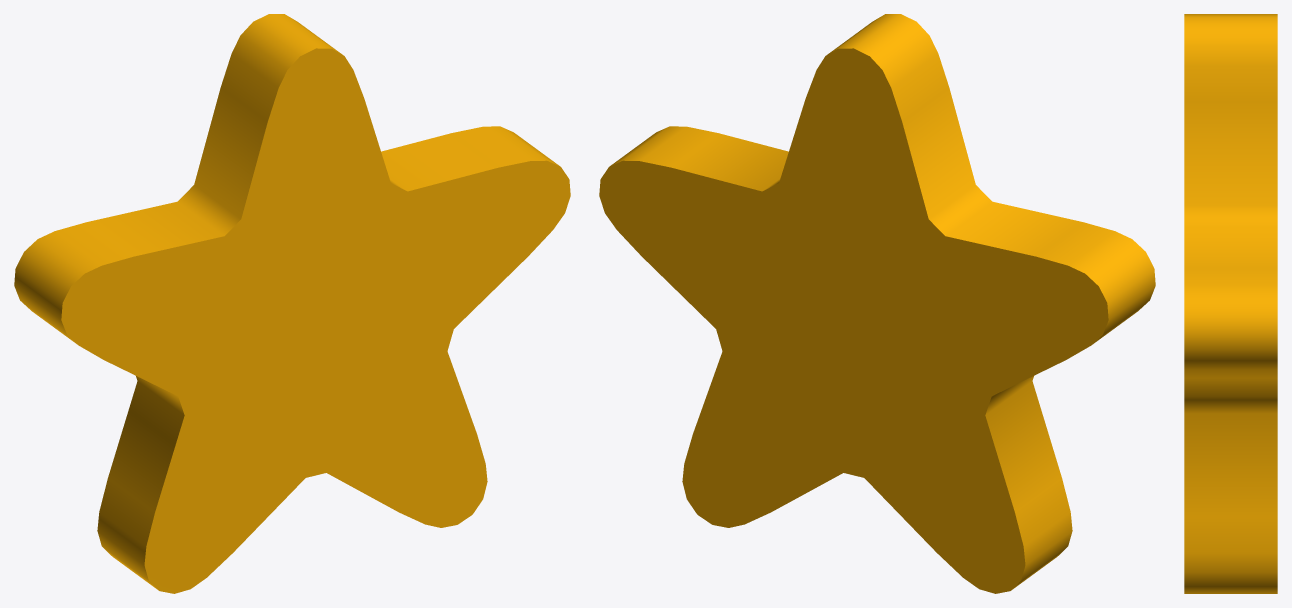
The model's file is Star.FBX.
3 renders of one model, left to right at view 1: azimuth 30°, elevation 25°; view 2: azimuth 150°, elevation 25°; view 3: azimuth 270°, elevation 25°, orthographic.
Parts seen in each view (by area): view 1: Star; view 2: Star; view 3: Star.
Part boxes in pixels (box(x1,y1,x2,y2)): Star: box(14, 14, 570, 593); Star: box(599, 14, 1155, 593); Star: box(1184, 14, 1277, 593).
Size of the model in its own units: 87.39 by 83.76 by 14.01.
